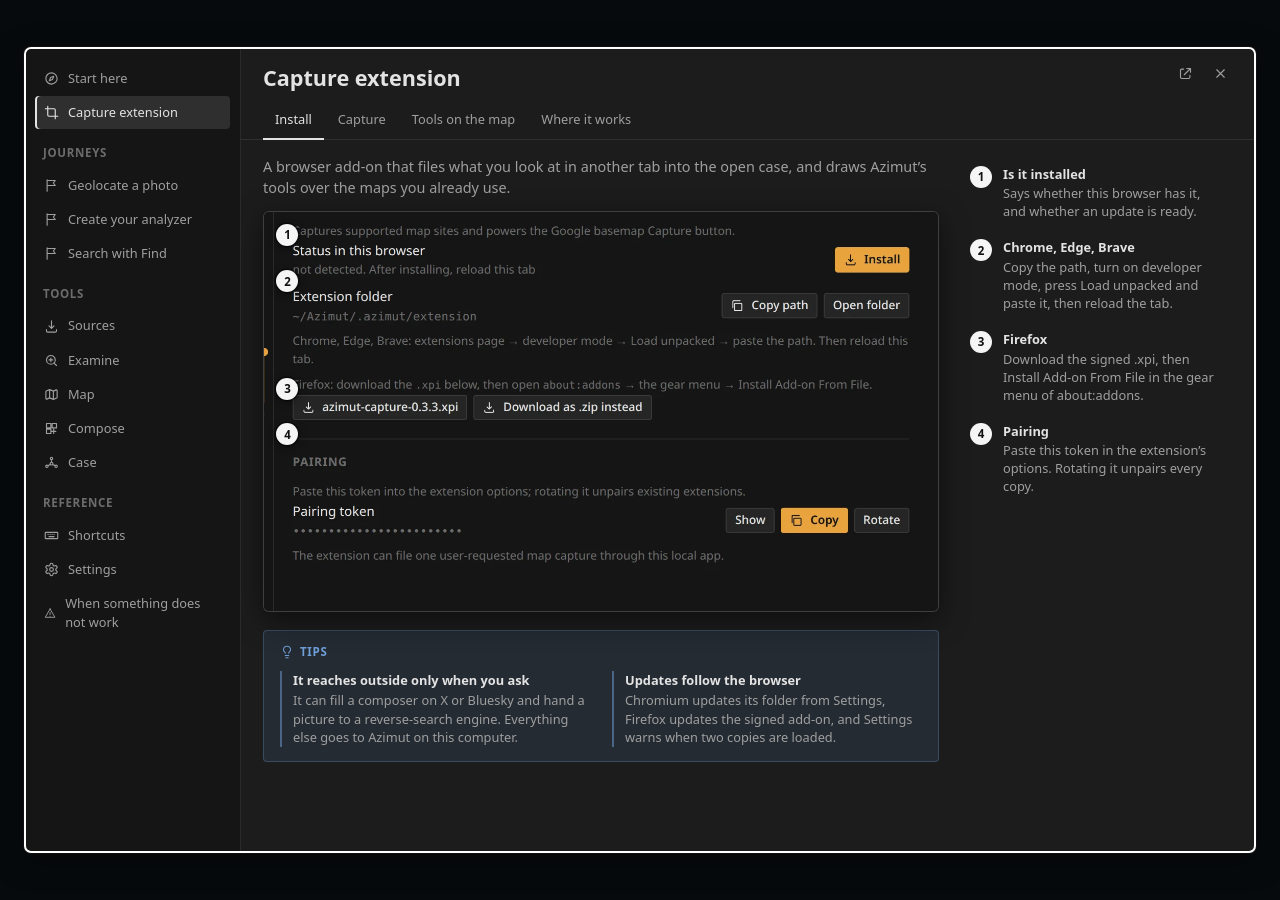
Test case: the extension, in tabs › says where it works, Street View included, in a table
Click the button with class "tab" showing "Where it works". click: click(586, 121)
box: [529, 102, 643, 140]
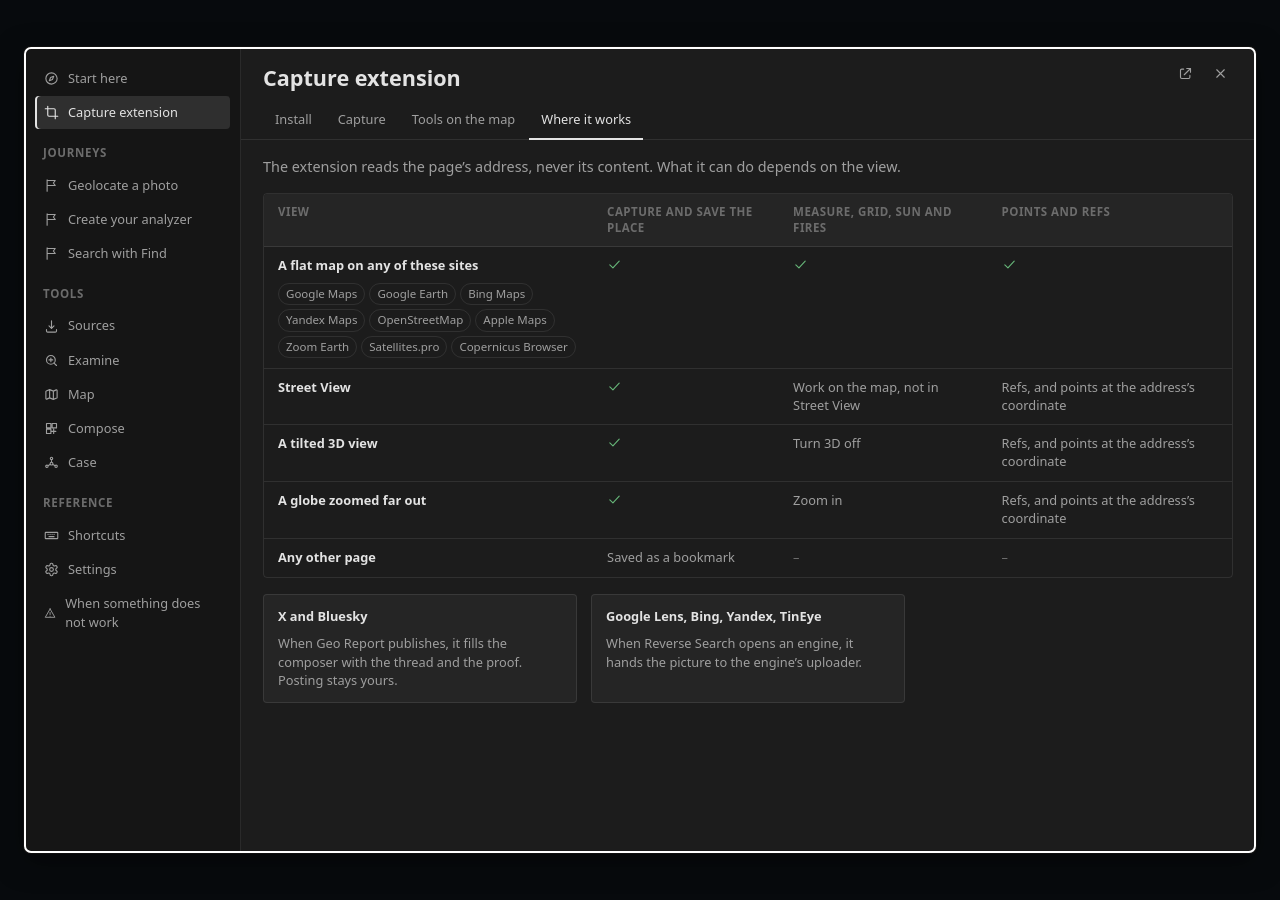
Expected: the row that starts with "Street View" shows "not in Street View", [793, 378, 939, 414]
Expected: the number of elements with class "card-block" is 2, [263, 594, 577, 703]; [591, 594, 905, 703]
